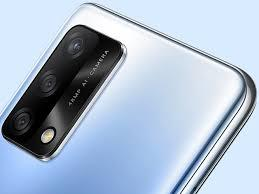Smartphone: (0, 24, 241, 194)
